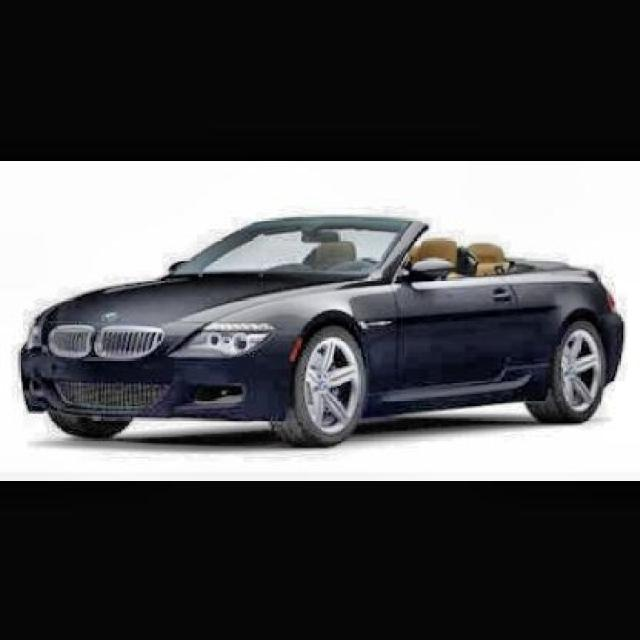black: (21, 209, 640, 463)
